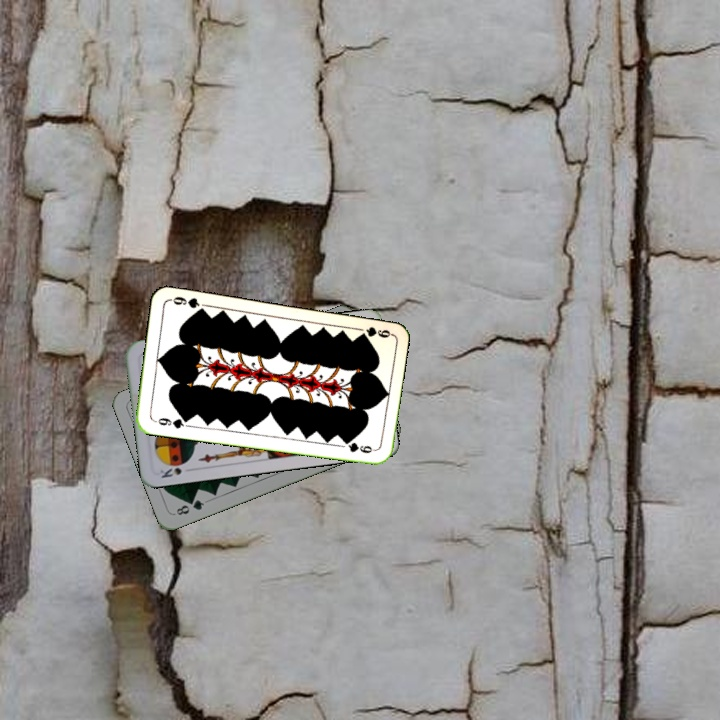G8: (172, 496, 207, 518)
G9: (150, 414, 191, 431), (358, 323, 393, 340)
SK: (156, 464, 195, 480)
